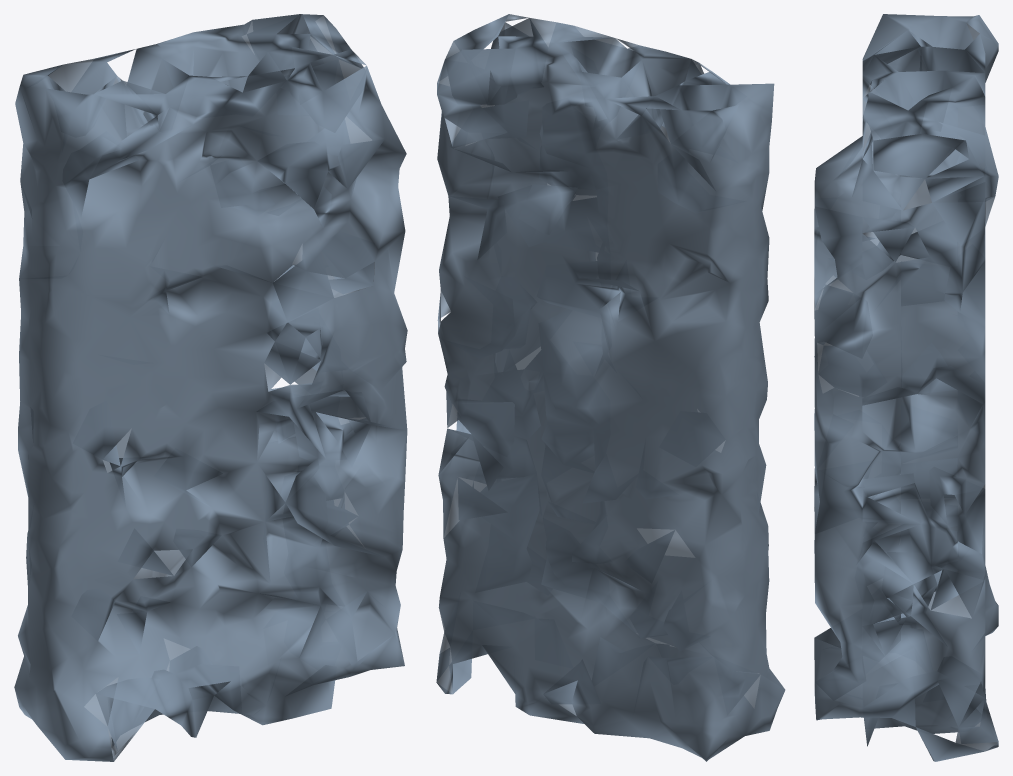
File: sample_645_orig.obj
3 renders of one model, left to right at view 1: azimuth 30°, elevation 25°; view 2: azimuth 150°, elevation 25°; view 3: azimuth 270°, elevation 25°, orthographic. The views are drawn at different scales.
Size of the model in its own units: 0.8844 by 1.79 by 0.4843.
